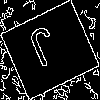J: (25, 24, 65, 77)
